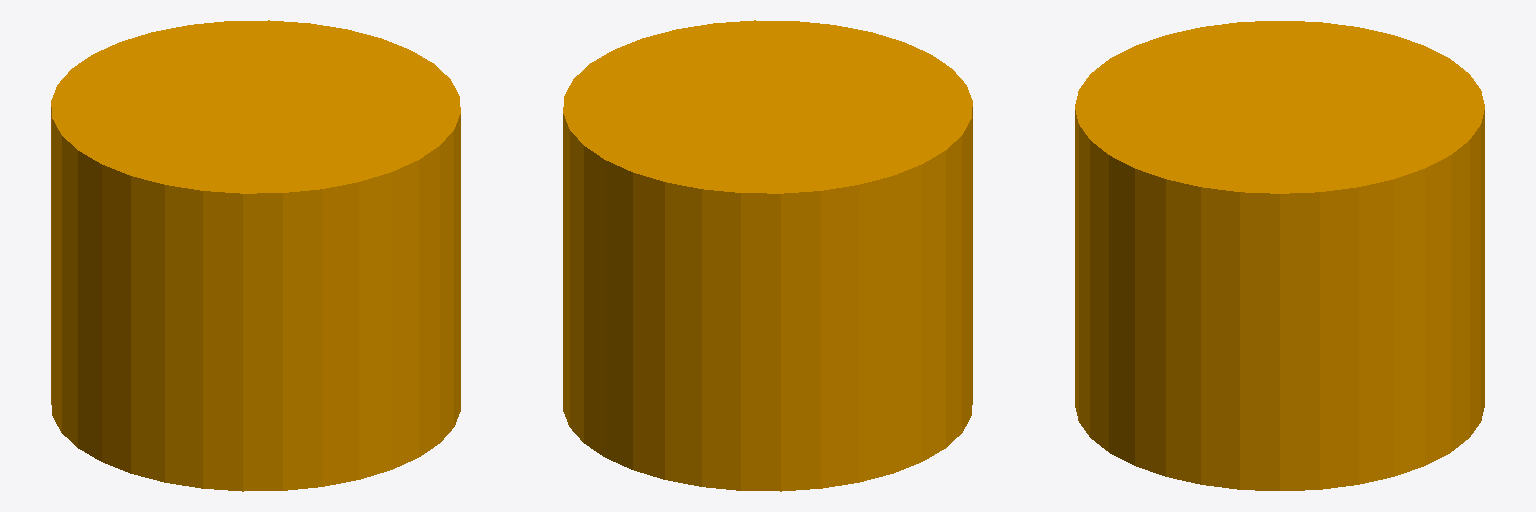
robot.urdf — object:
<robot name="object">
  <link name="object">
    <visual>
      <origin xyz="0 0 0" />
      <geometry>
        <cylinder length="0.064" radius="0.04" />
      </geometry>
    </visual>

    <collision>
      <origin xyz="0 0 0" />
      <geometry>
        <cylinder length="0.064" radius="0.04" />
      </geometry>
    </collision>

    <inertial>
      <mass value="0.05" />
      <inertia ixx="0.0001" ixy="0.0" ixz="0.0" iyy="0.0001" iyz="0.0" izz="0.0001" />
    </inertial>
  </link>
</robot>

--- What the picture shows (computed from the rendered views, not written in the file) ---
3 views of the same robot in one strip: view 1: azimuth 30°, elevation 25°; view 2: azimuth 150°, elevation 25°; view 3: azimuth 270°, elevation 25° (orthographic).
Model object with 1 links and 0 joints (none), rooted at object, posed every joint at zero.
Links seen in each view (by area): view 1: object; view 2: object; view 3: object.
Boxes of the visible links, x1,y1,x2,y2 form: object: [51, 20, 460, 491]; object: [563, 20, 972, 491]; object: [1075, 21, 1484, 490].
Size in the robot's own frame: 0.08 by 0.08 by 0.064 metres.
Geometry: primitives only (box / cylinder / sphere), no mesh files.